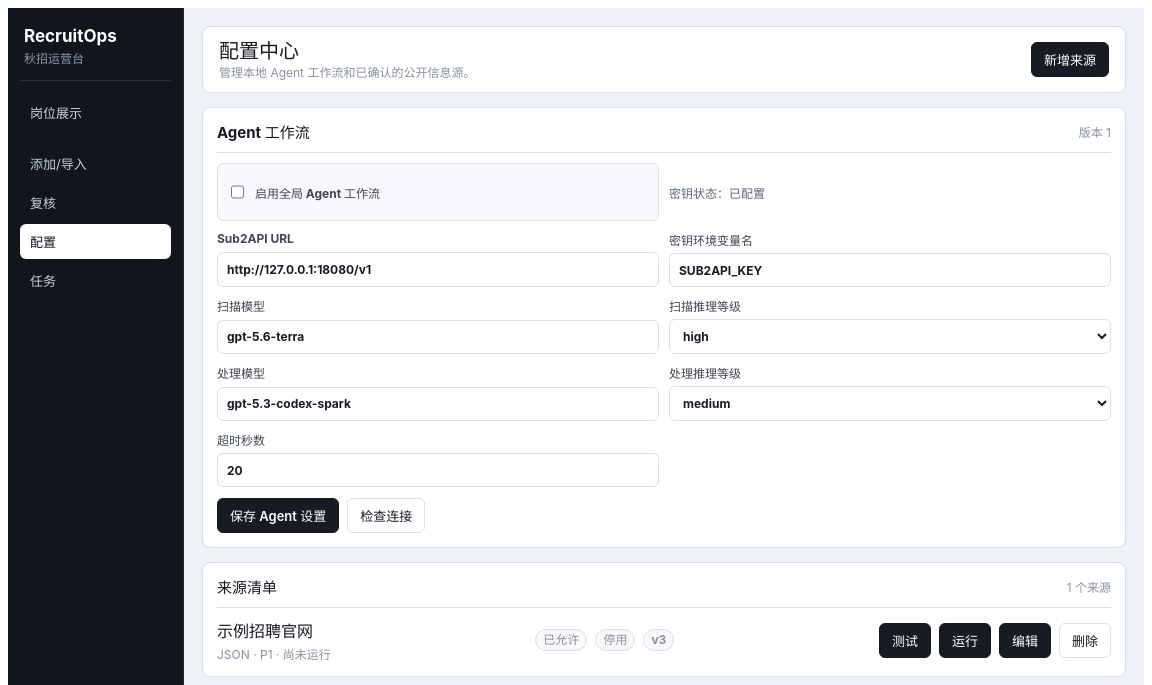
it: API-driven micro frontend › shows source action API errors
This screenshot has width=1152, height=685.
Click the button with aria-label "测试来源 示例招聘官网" at (905, 640), box 879,622 -> 931,658
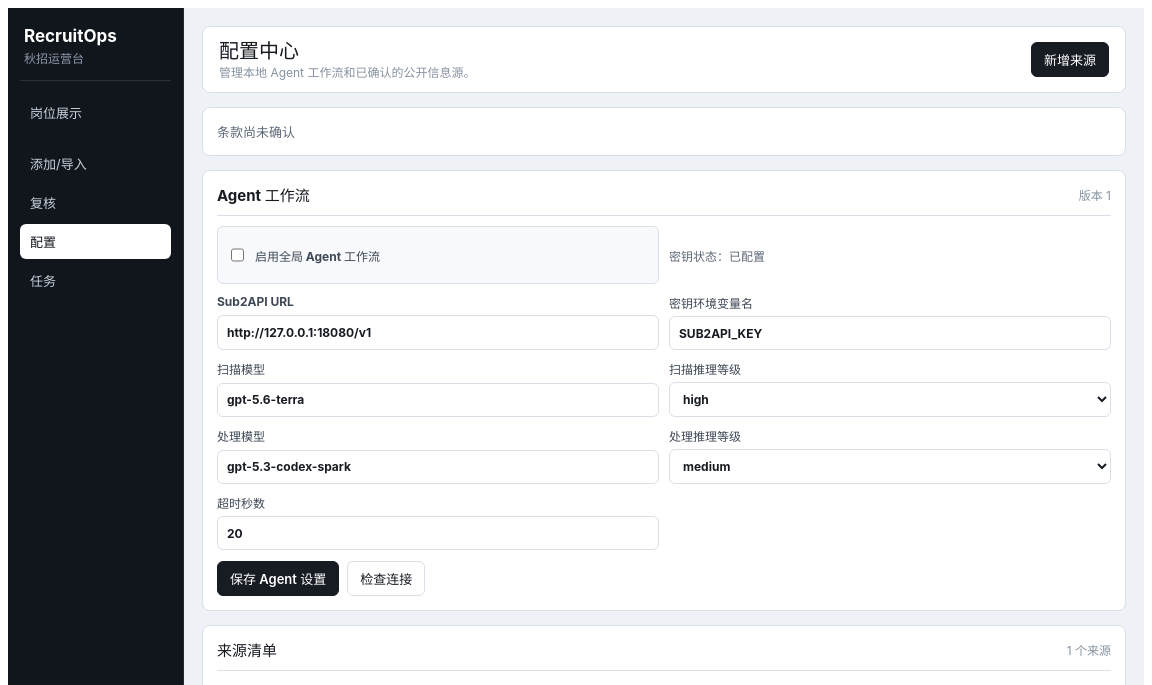
Expected: the message reads "条款尚未确认", 217,124 -> 295,140
